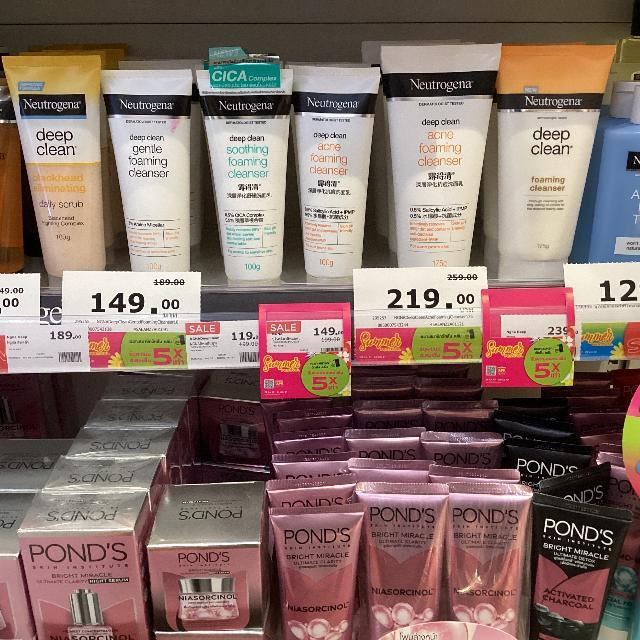Squeeze Tube: (1, 23, 634, 321), (253, 385, 550, 635)
